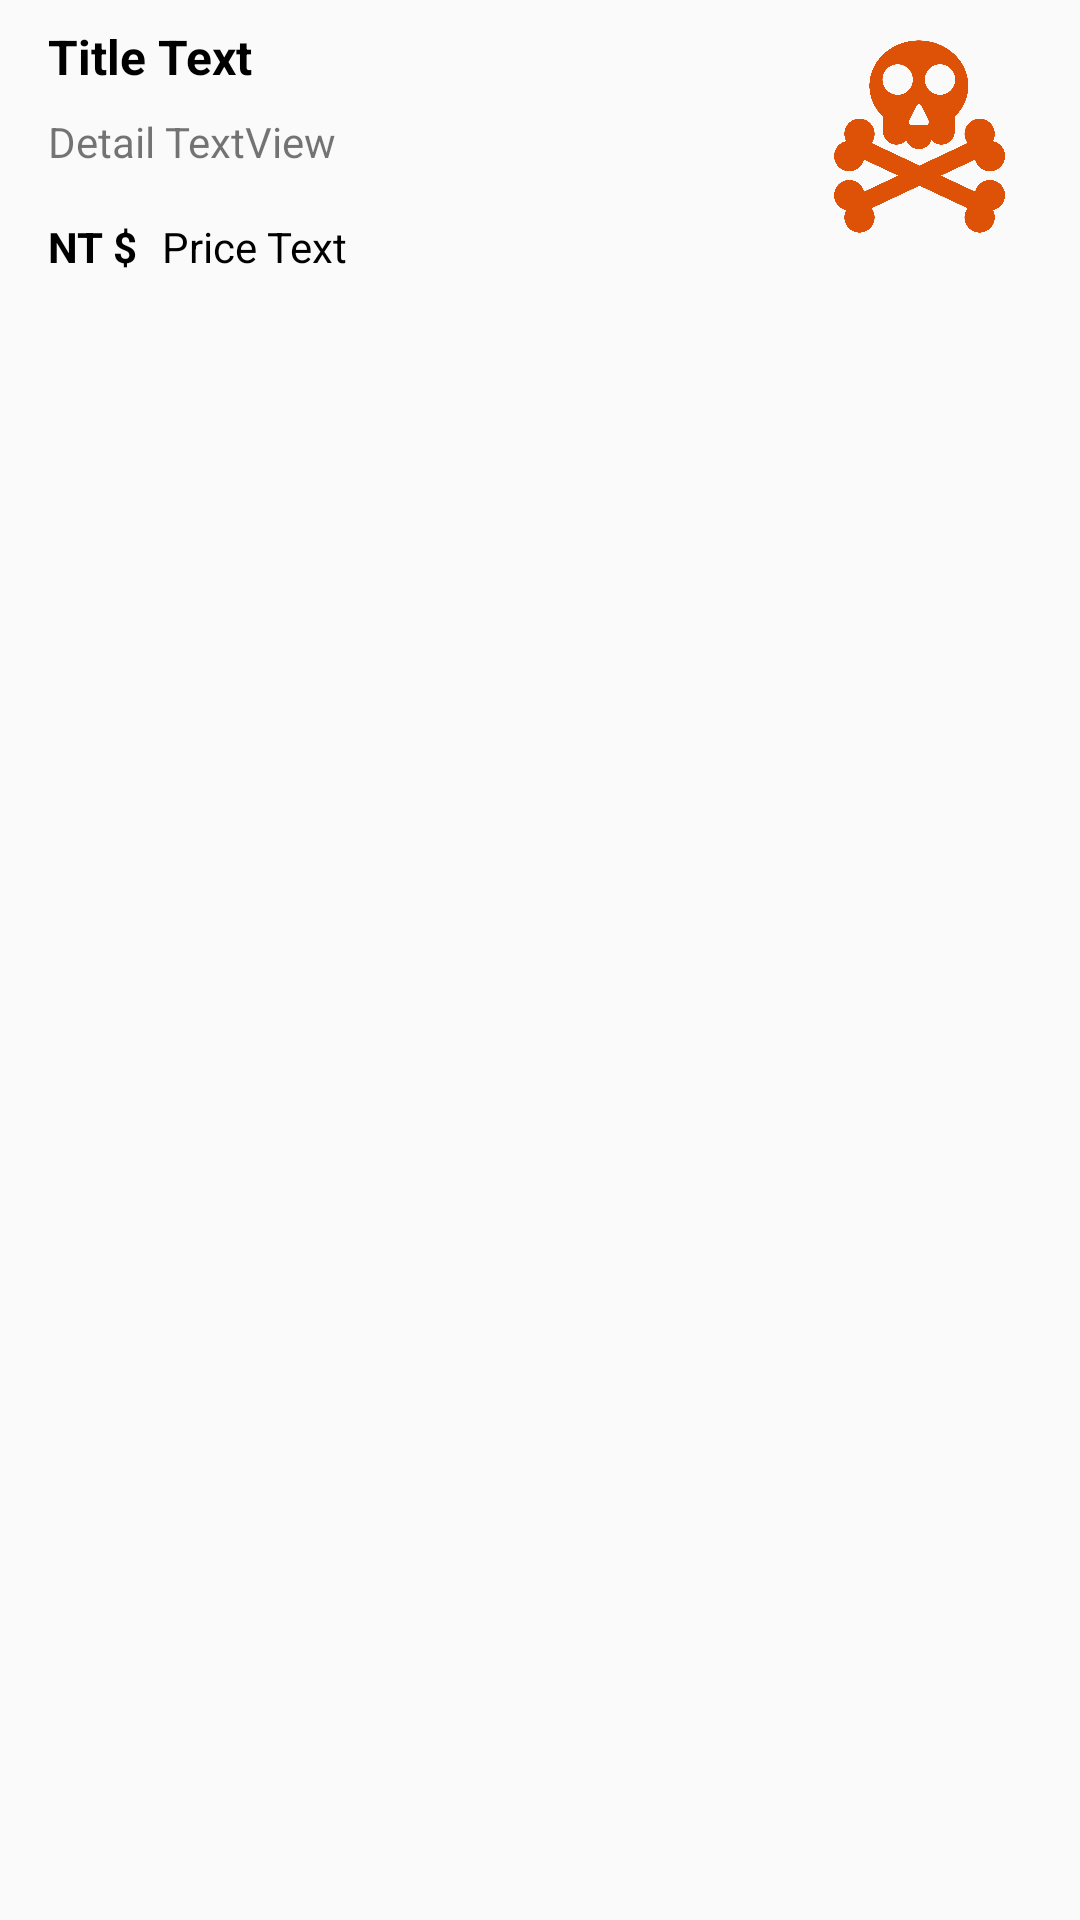

Where to tap for icons on this 1080×1920 app screen, as point (x, y):
toxic: point (919, 136)
